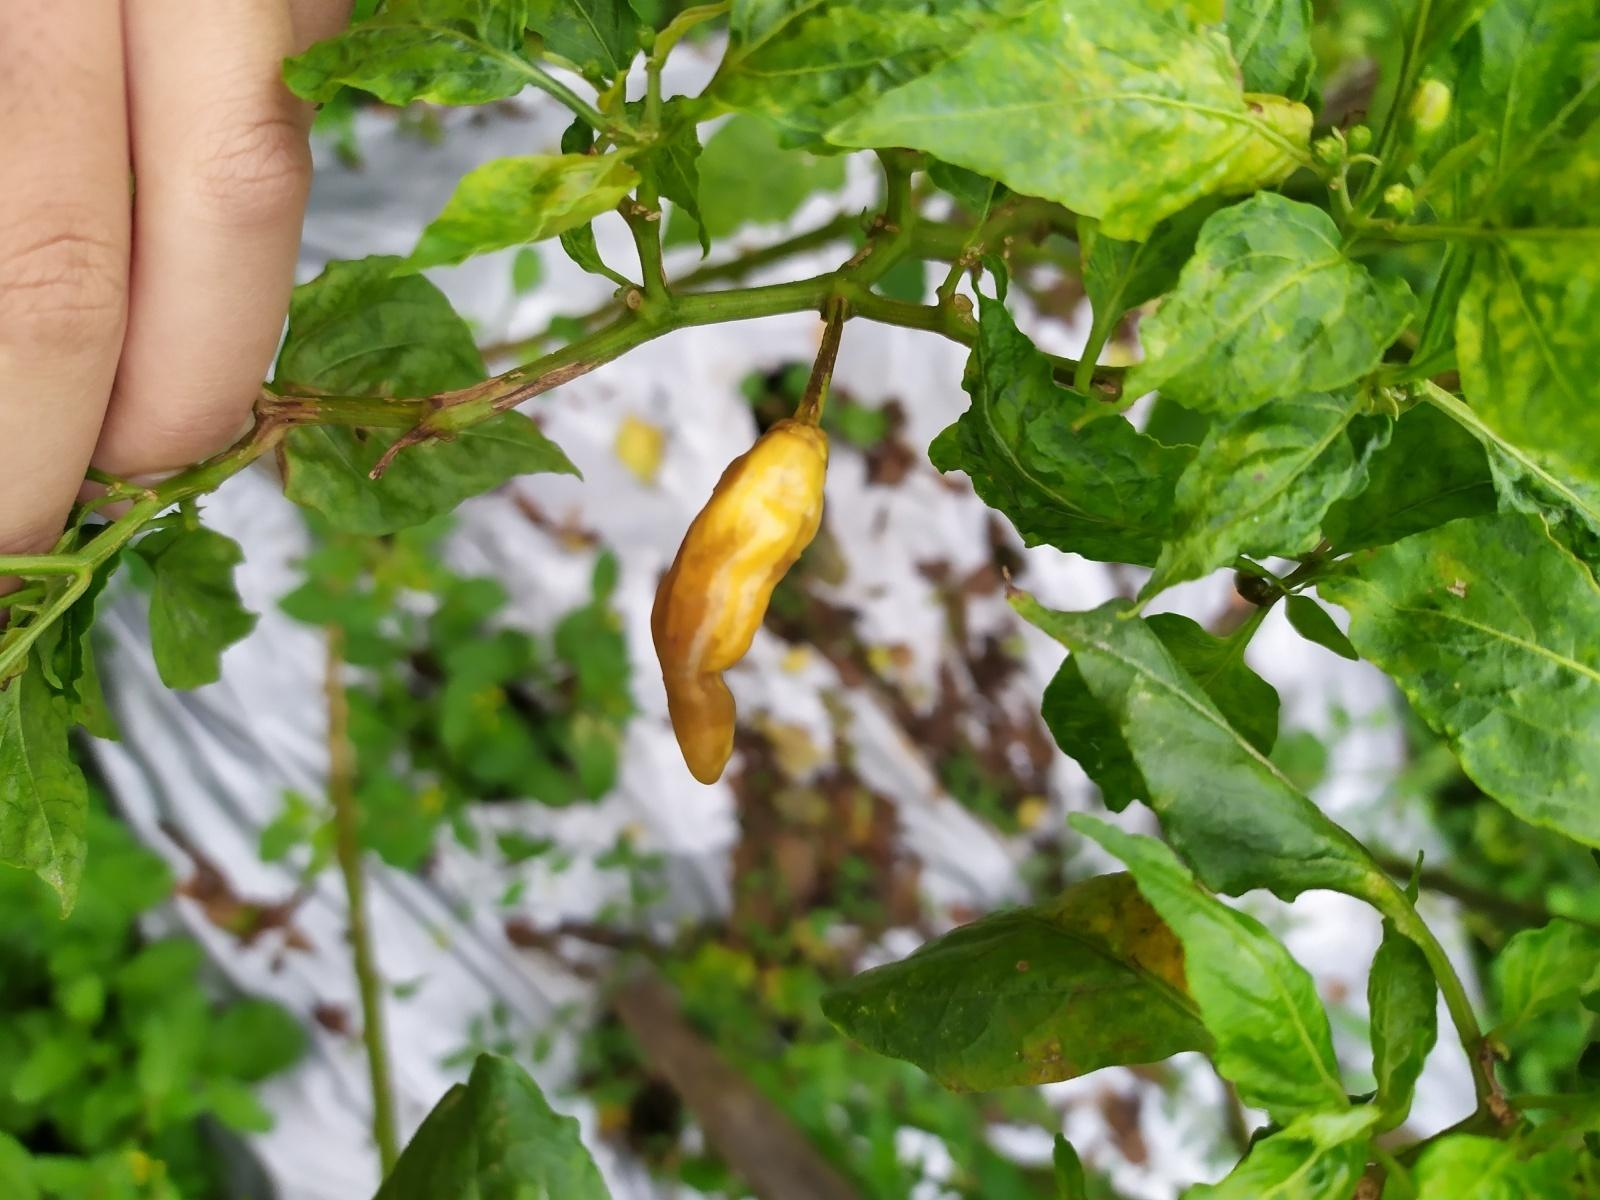lalat_buah: (649, 416, 829, 784)
